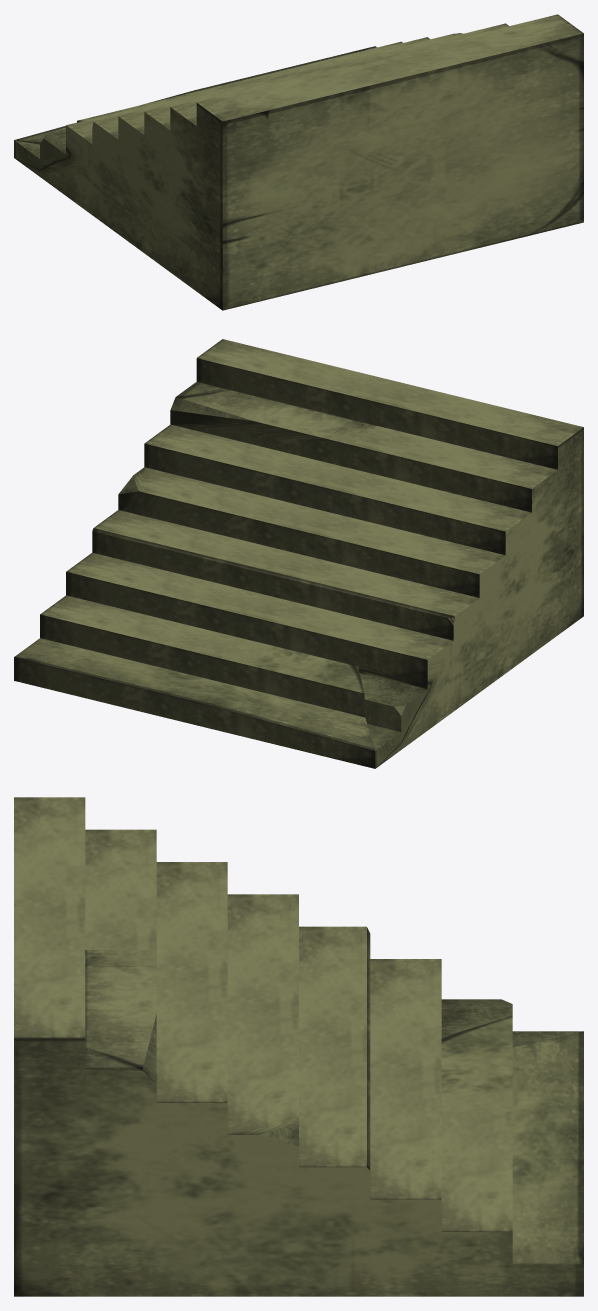
File: lowstairs.FBX
3 renders of one model, top to bottom at view 1: azimuth 30°, elevation 25°; view 2: azimuth 150°, elevation 25°; view 3: azimuth 270°, elevation 25°, orthographic. The views are drawn at different scales.
Parts seen in each view (by area): view 1: Stairs001; view 2: Stairs001; view 3: Stairs001.
Part boxes in pixels (x1,y1,x2,y2): Stairs001: (14,14,583,310); Stairs001: (14,339,583,768); Stairs001: (14,797,583,1296).
Bounding box in the file's own units: 80 × 40 × 80.
